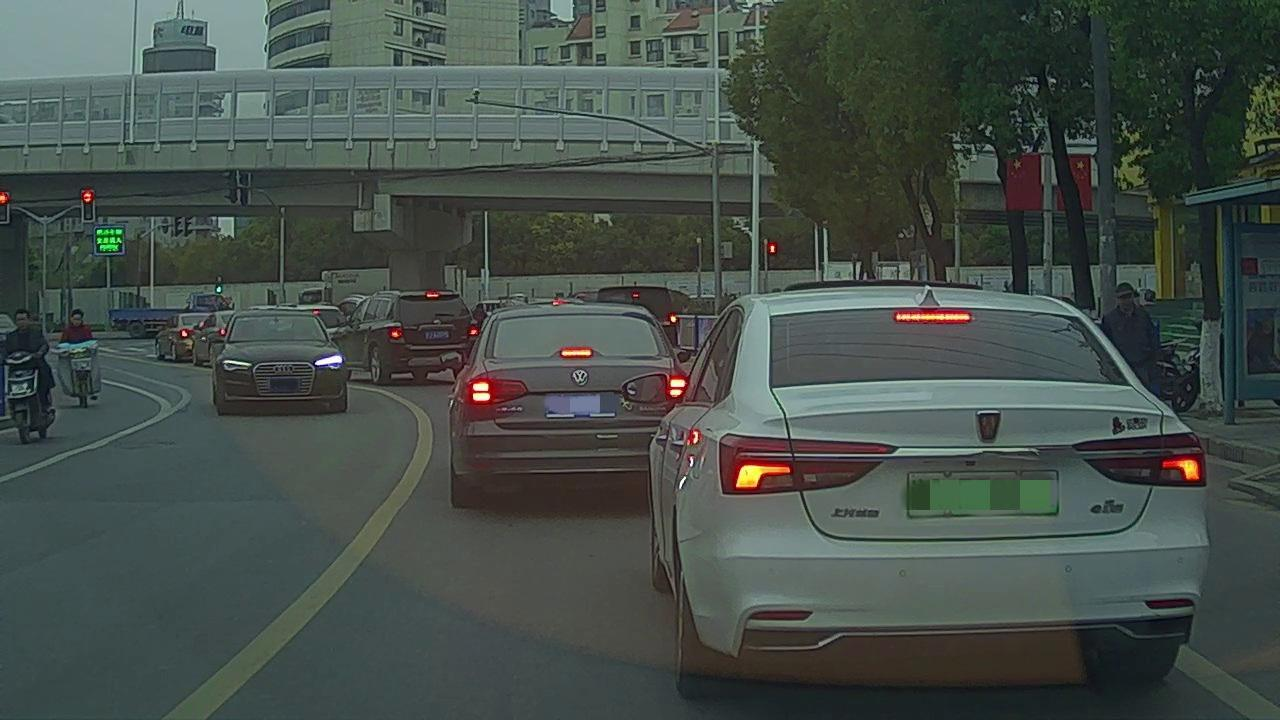traffic_light: (81, 191, 93, 221)
